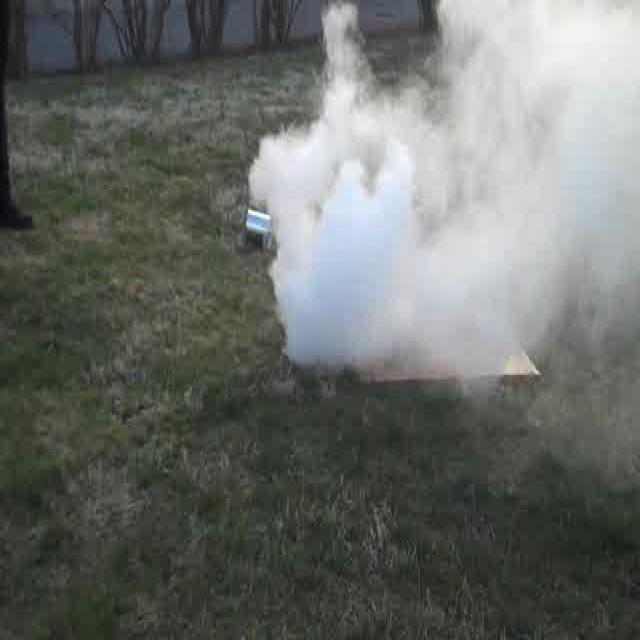Smoke: (262, 81, 622, 342)
